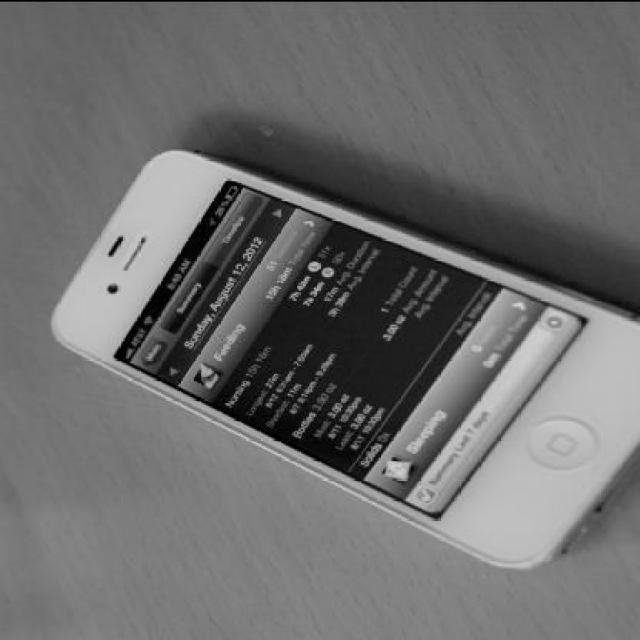fake: (58, 142, 627, 564)
